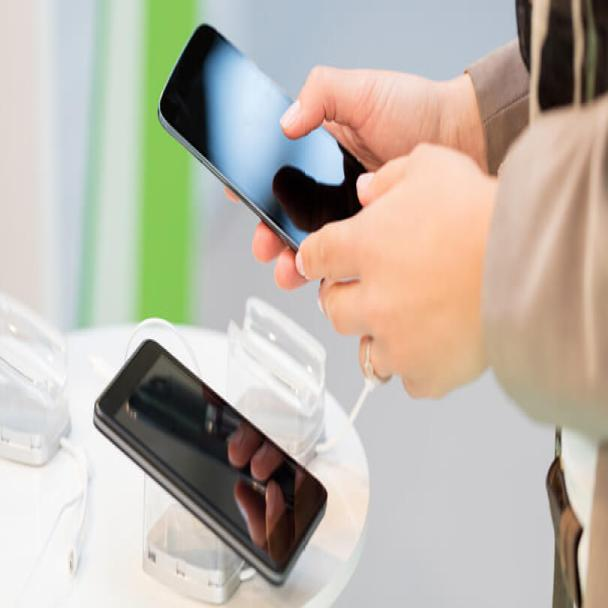Handphone: (157, 11, 387, 309), (89, 333, 334, 592)
